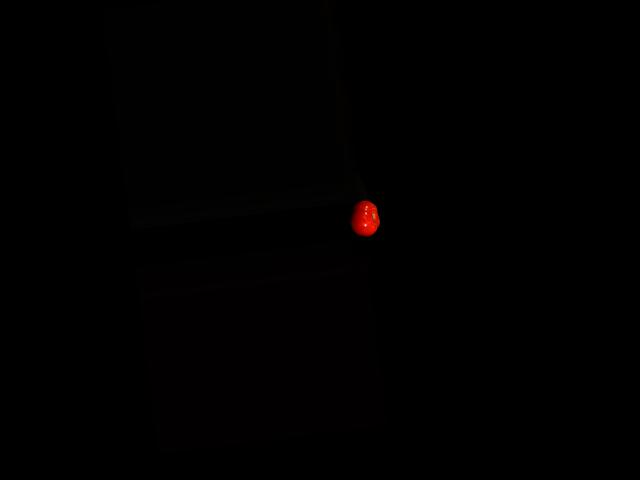tomato: (347, 199, 381, 239)
